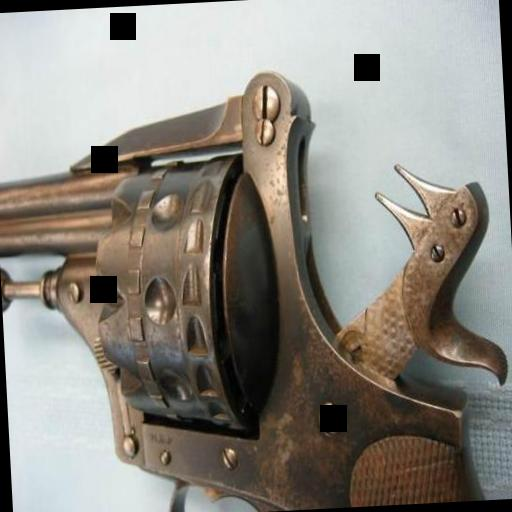Handgun: (0, 57, 512, 512)
